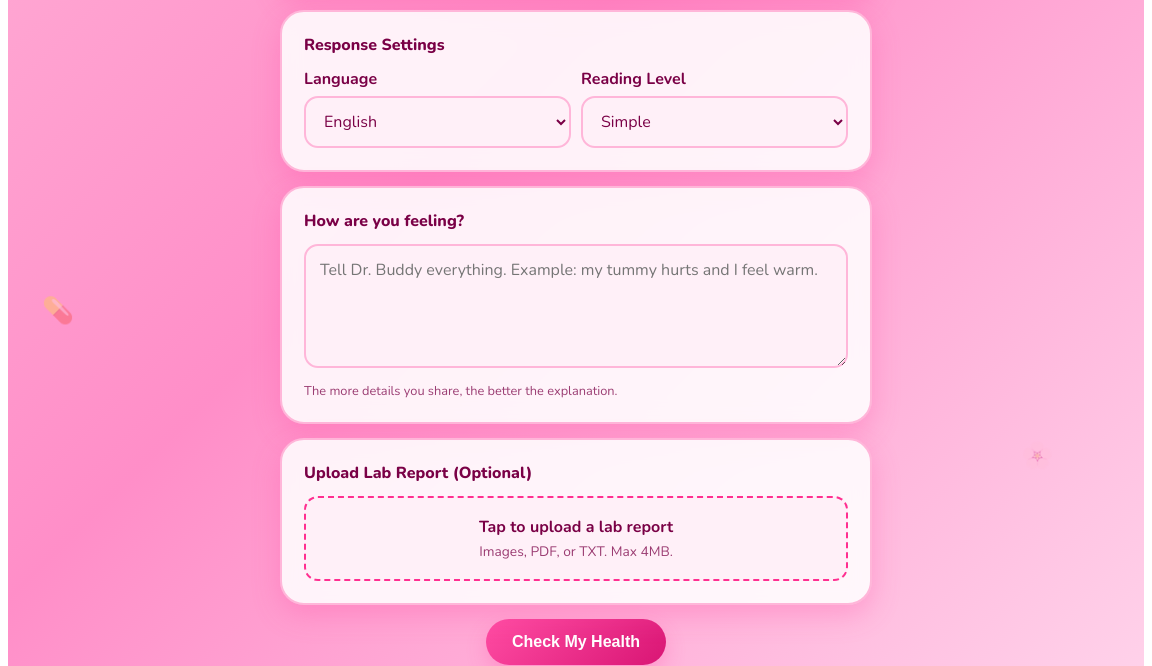
Test: App › submits symptoms and renders diagnosis result
(page scrolled)
Step 1. Type "I have a mild headache and sore throat." into the text box with placeholder "Tell Dr. Buddy everything" → coordinates (576, 306), box [304, 244, 848, 368]
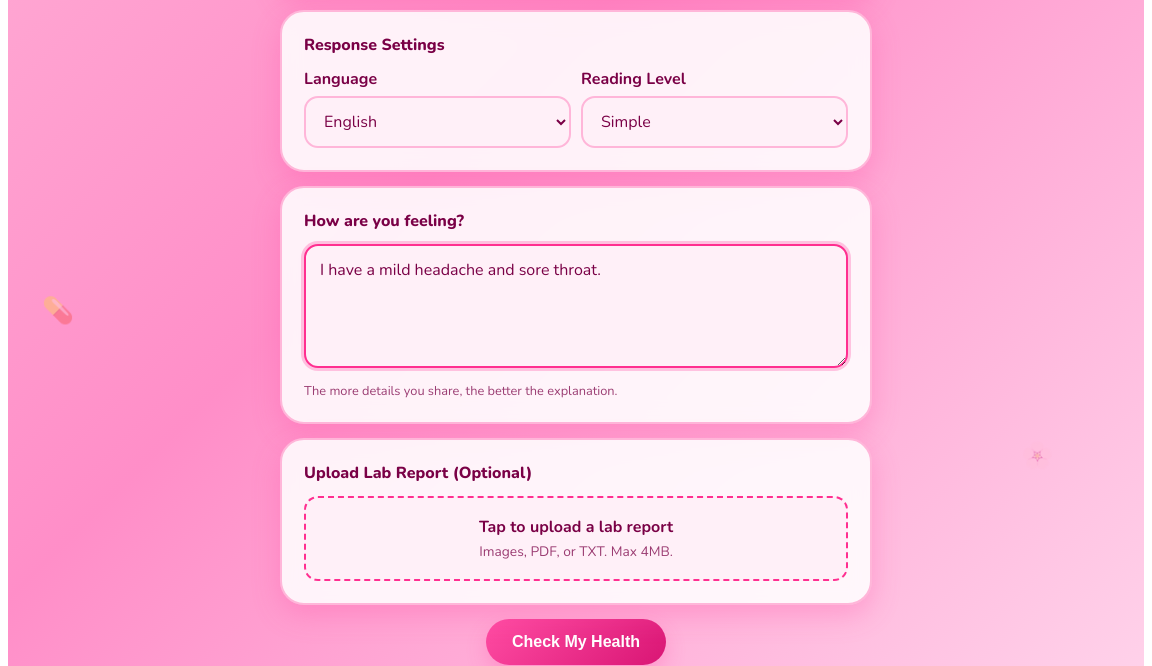
Step 2. Click the button "Check My Health" → coordinates (576, 642), box [486, 619, 666, 665]
(page scrolled)
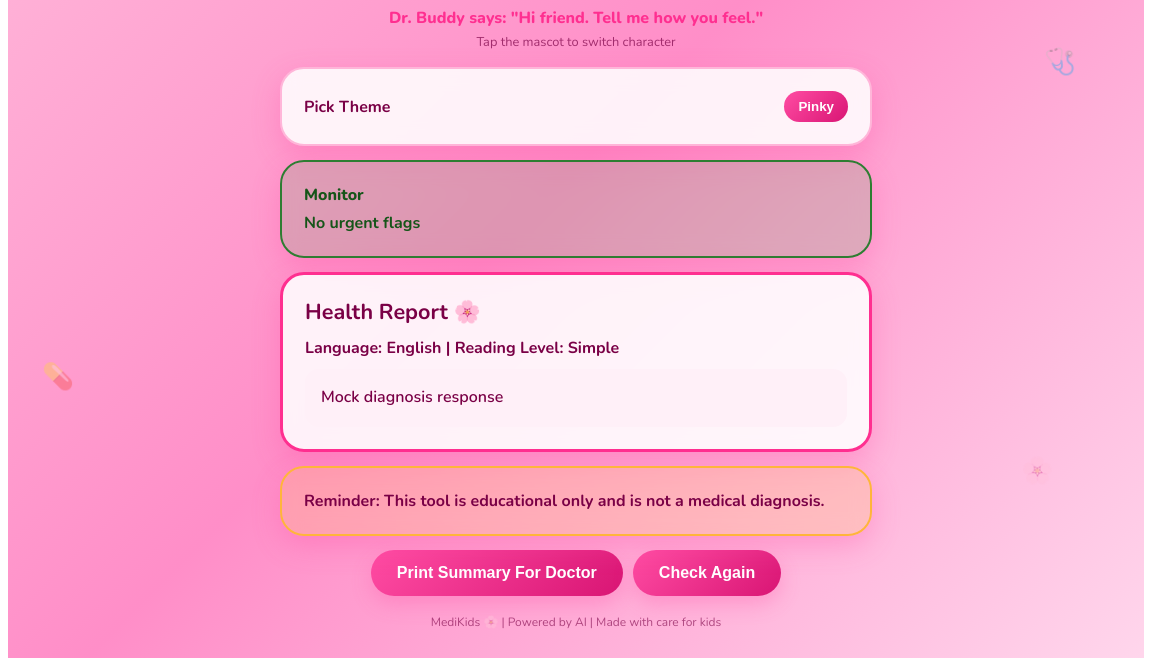
Now the text "Mock diagnosis response" is shown, box [305, 369, 847, 427]
Now the button "Print Summary For Doctor" is shown, box [371, 550, 623, 596]
